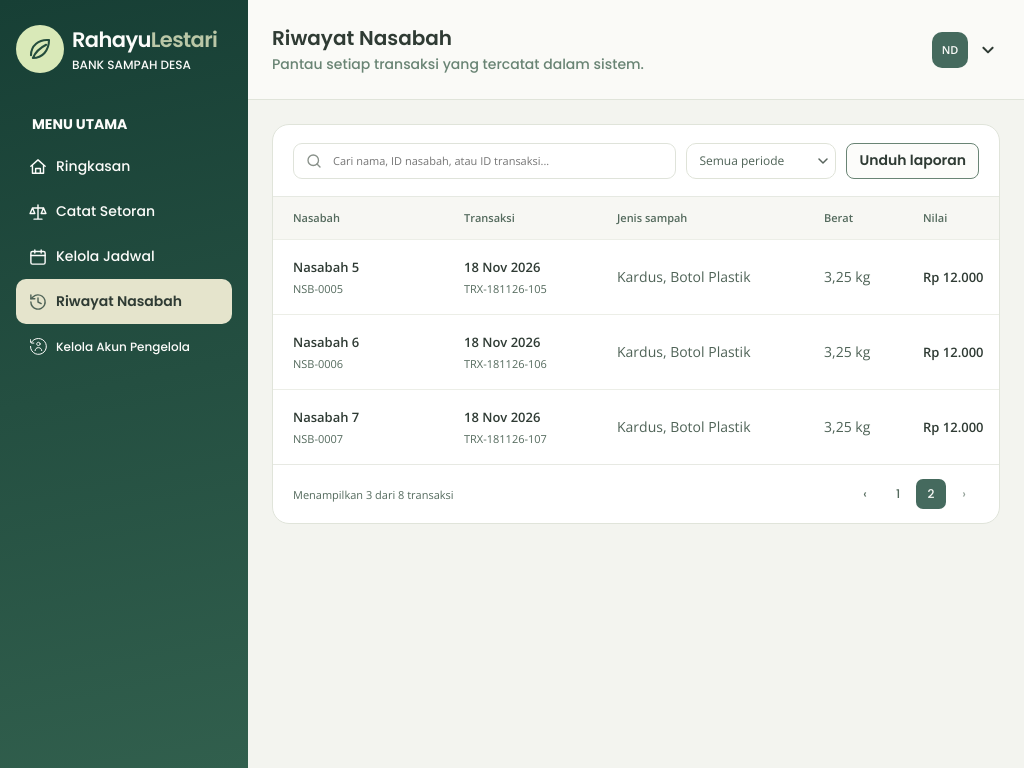
Scenario: Riwayat Nasabah › searches across pages using Nasabah 7
Type "Nasabah 7" into the search field at (485,160), box top-left (293, 142), bottom-right (676, 178)
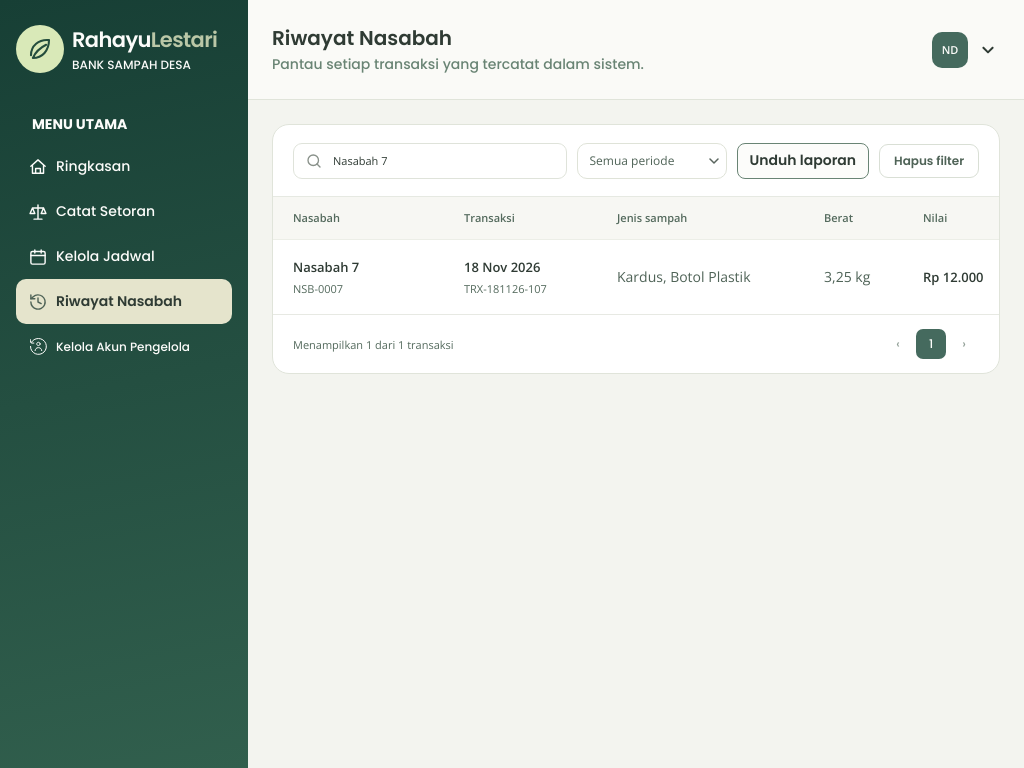
Expected: the text "Nasabah 7" is shown, top-left (293, 258), bottom-right (359, 276)
Expected: the text "Menampilkan 1 dari 1 transaksi" is shown, top-left (293, 336), bottom-right (454, 352)
Click the button "Hapus filter" at (929,160), box top-left (879, 144), bottom-right (979, 178)
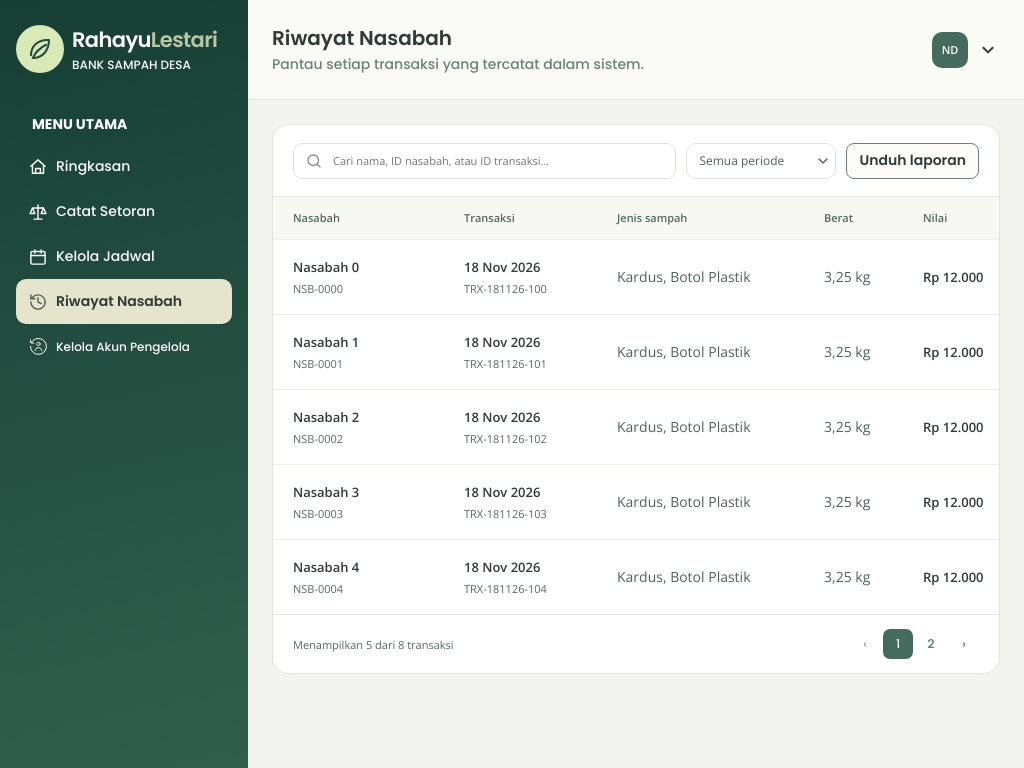
Expected: the text "Menampilkan 5 dari 8 transaksi" is shown, top-left (293, 636), bottom-right (454, 652)
